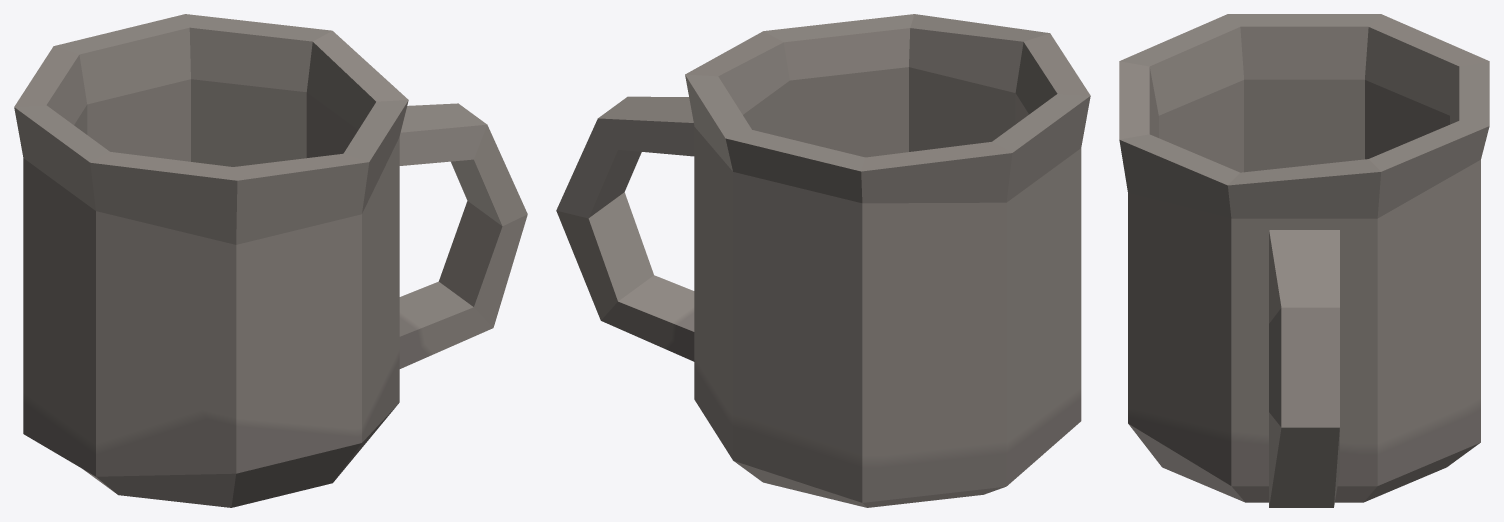
The model's file is SM_Metal_Mug.gltf.
3 renders of one model, left to right at view 1: azimuth 30°, elevation 25°; view 2: azimuth 150°, elevation 25°; view 3: azimuth 270°, elevation 25°, orthographic. The views are drawn at different scales.
Parts seen in each view (by area): view 1: SM_Metal_Mug; view 2: SM_Metal_Mug; view 3: SM_Metal_Mug.
Part boxes in pixels (x1,y1,x2,y2): SM_Metal_Mug: [14, 14, 527, 507]; SM_Metal_Mug: [556, 14, 1090, 507]; SM_Metal_Mug: [1119, 14, 1489, 507].
Size of the model in its own units: 0.2442 by 0.1749 by 0.1675.
Materials: 1 (1 with a texture image).
